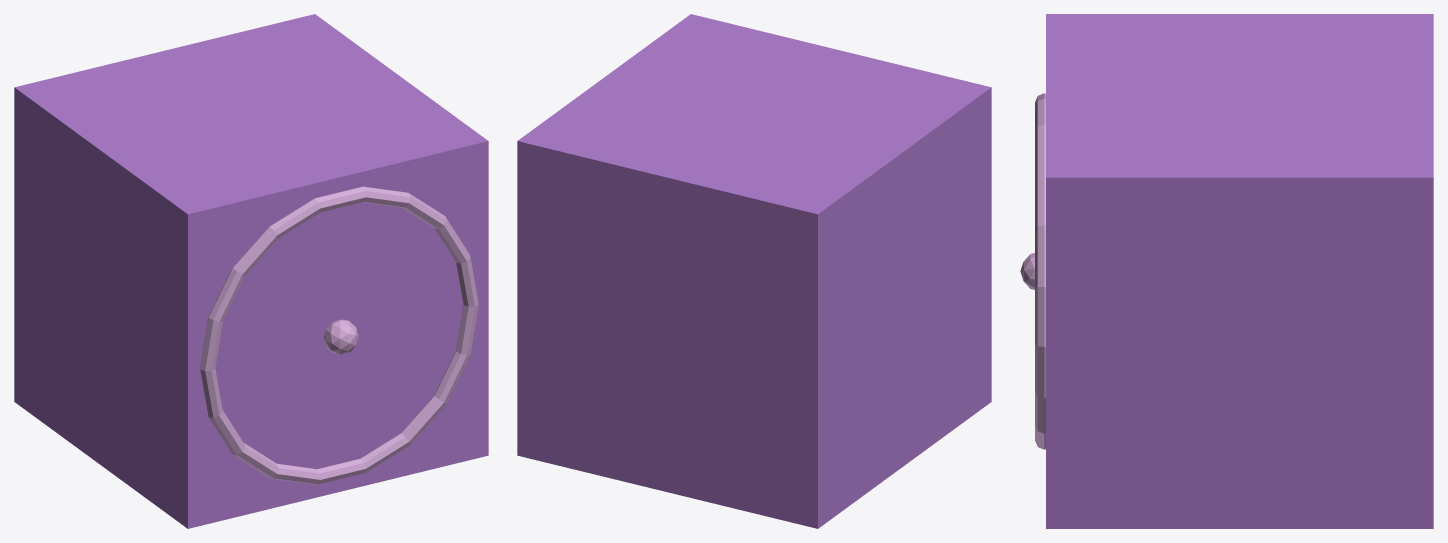
File: zufall.glb
The picture shows the model from 3 angles, left to right: view 1: azimuth 30°, elevation 25°; view 2: azimuth 150°, elevation 25°; view 3: azimuth 270°, elevation 25°; orthographic projection. The views are drawn at different scales.
Visible parts, largest first — view 1: world; view 2: world; view 3: world.
Boxes of the visible parts, x1=… form: world: x1=14, y1=14, x2=488, y2=528; world: x1=517, y1=14, x2=991, y2=528; world: x1=1020, y1=14, x2=1433, y2=528.
Size of the model in its own units: 1.05 by 1.05 by 1.12.
